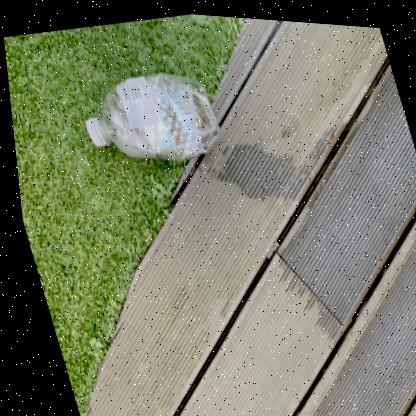Plastic: (82, 70, 214, 157)
